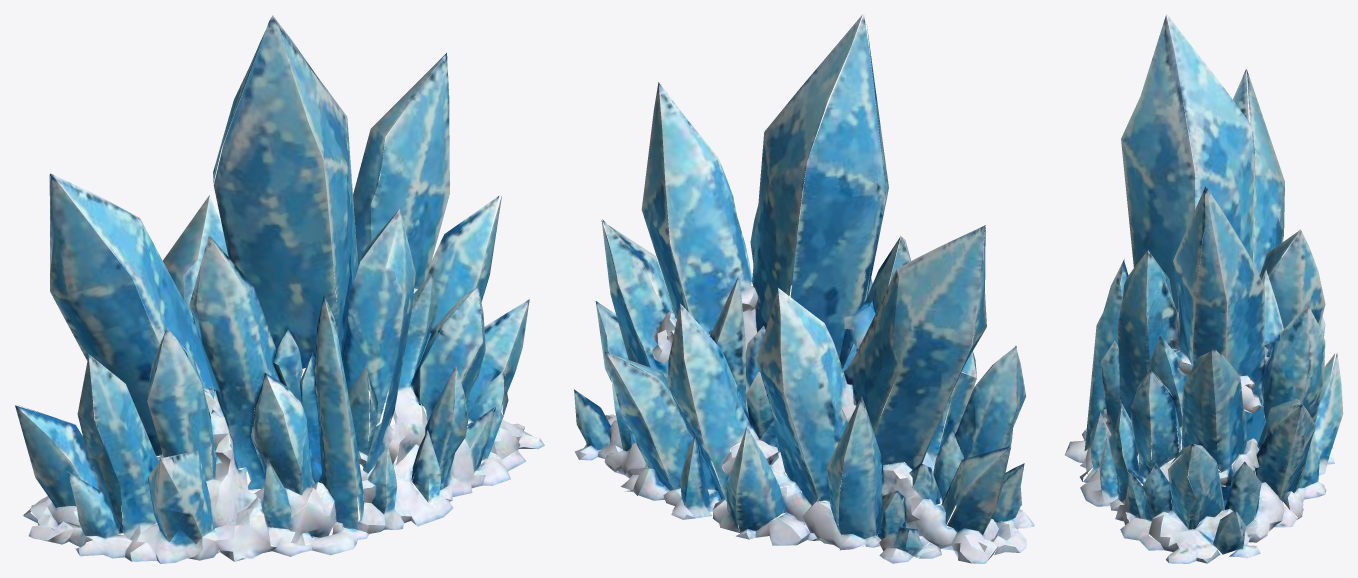
File: deco_ice_crystal_lite.glb
3 views of the same model, side by side, from view 1: azimuth 30°, elevation 25°; view 2: azimuth 150°, elevation 25°; view 3: azimuth 270°, elevation 25° (orthographic). The views are drawn at different scales.
Visible parts, largest first — view 1: geometry_0; view 2: geometry_0; view 3: geometry_0.
Boxes of the visible parts, <box> form: geometry_0: <box>15,15,544,563</box>; geometry_0: <box>574,14,1034,563</box>; geometry_0: <box>1064,14,1343,563</box>.
Size of the model in its own units: 1.91 by 1.89 by 1.1.
Materials: 1 (1 with a texture image).
